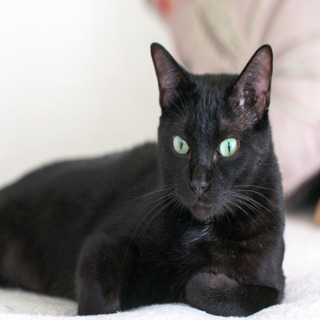gato: (109, 30, 295, 255)
